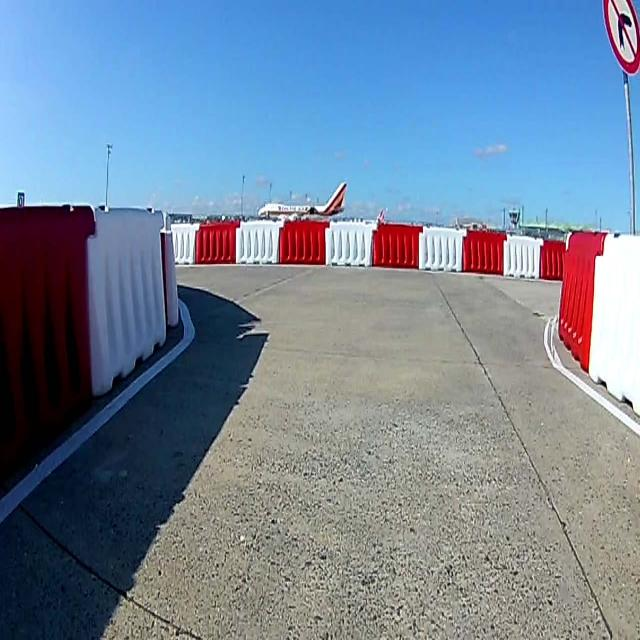sagadonulmez: (602, 6, 640, 76)
